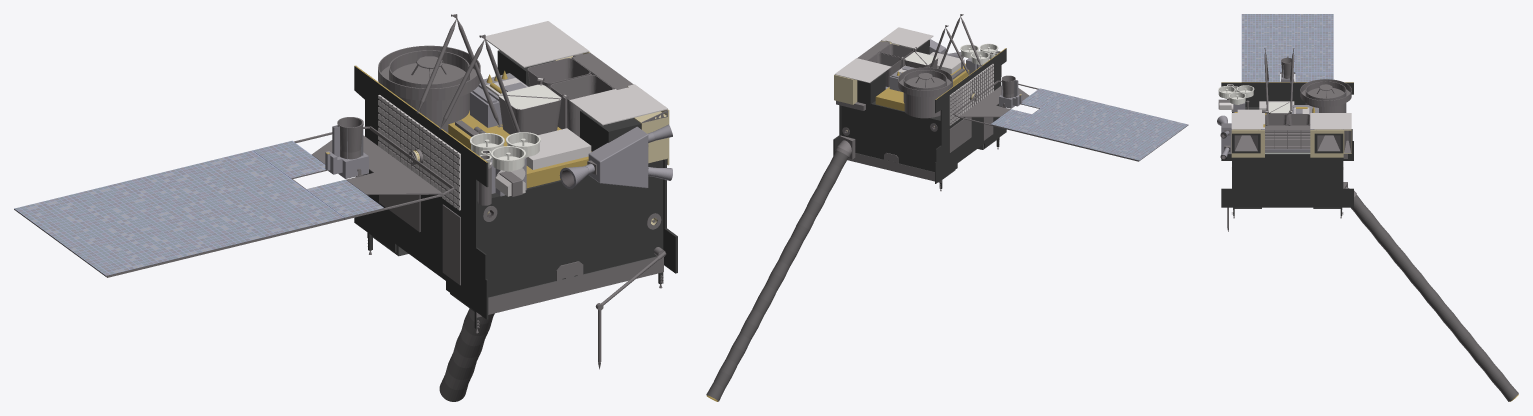
Rendered from goes.glb.
3 views of the same model, side by side, from view 1: azimuth 30°, elevation 25°; view 2: azimuth 150°, elevation 25°; view 3: azimuth 270°, elevation 25° (orthographic). The views are drawn at different scales.
Parts seen in each view (by area): view 1: Layer_0; view 2: Layer_0; view 3: Layer_0.
Boxes of the visible parts, box(x1,y1,x2,y2) form: Layer_0: box(14, 14, 677, 401); Layer_0: box(706, 14, 1188, 401); Layer_0: box(1217, 14, 1518, 401).
Size of the model in its own units: 0.1344 by 0.122 by 0.1113.
Materials: 2 (2 with a texture image).
